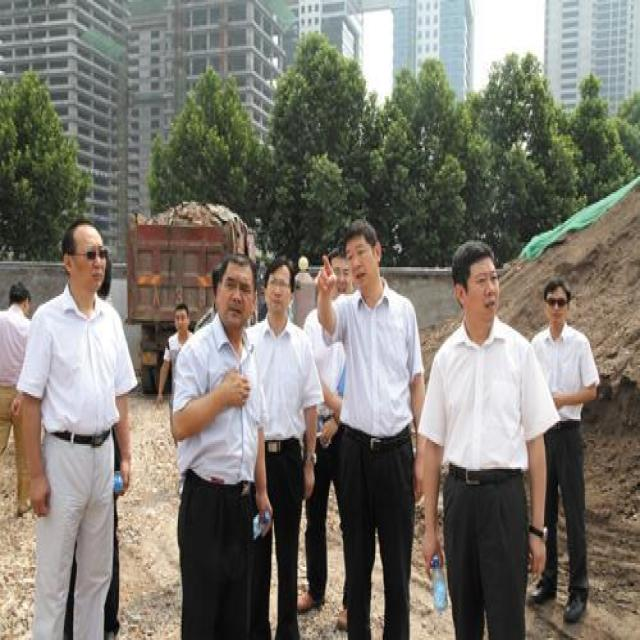head: (449, 235, 503, 332), (59, 217, 109, 298), (213, 252, 254, 334), (344, 217, 386, 292), (265, 257, 294, 325), (319, 244, 349, 302), (542, 280, 572, 334), (6, 277, 32, 325), (170, 294, 191, 340)
